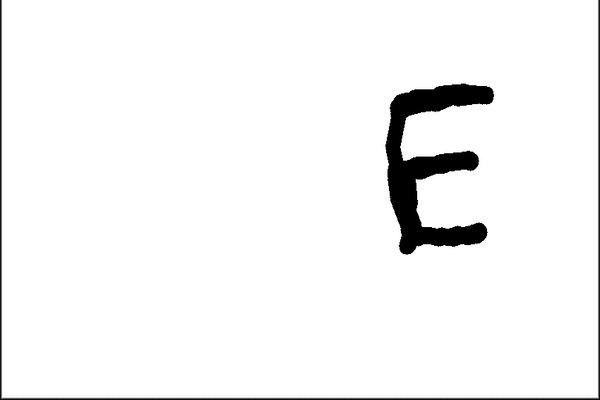E: (380, 80, 501, 257)
